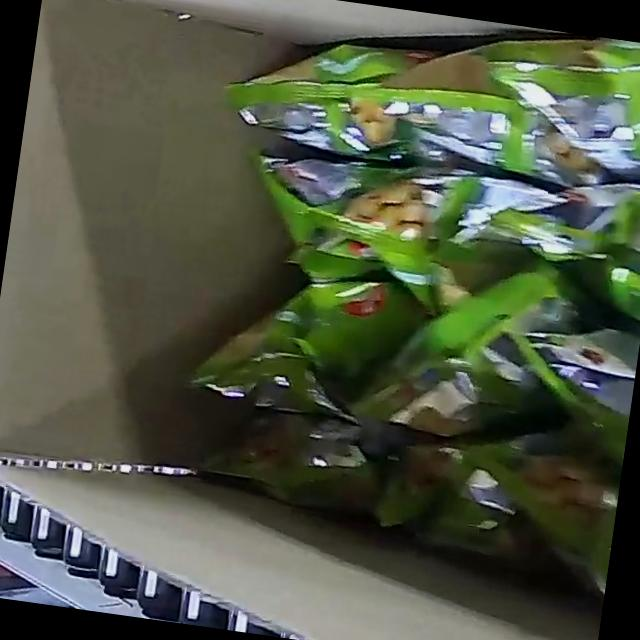yogurt: (153, 0, 640, 629)
